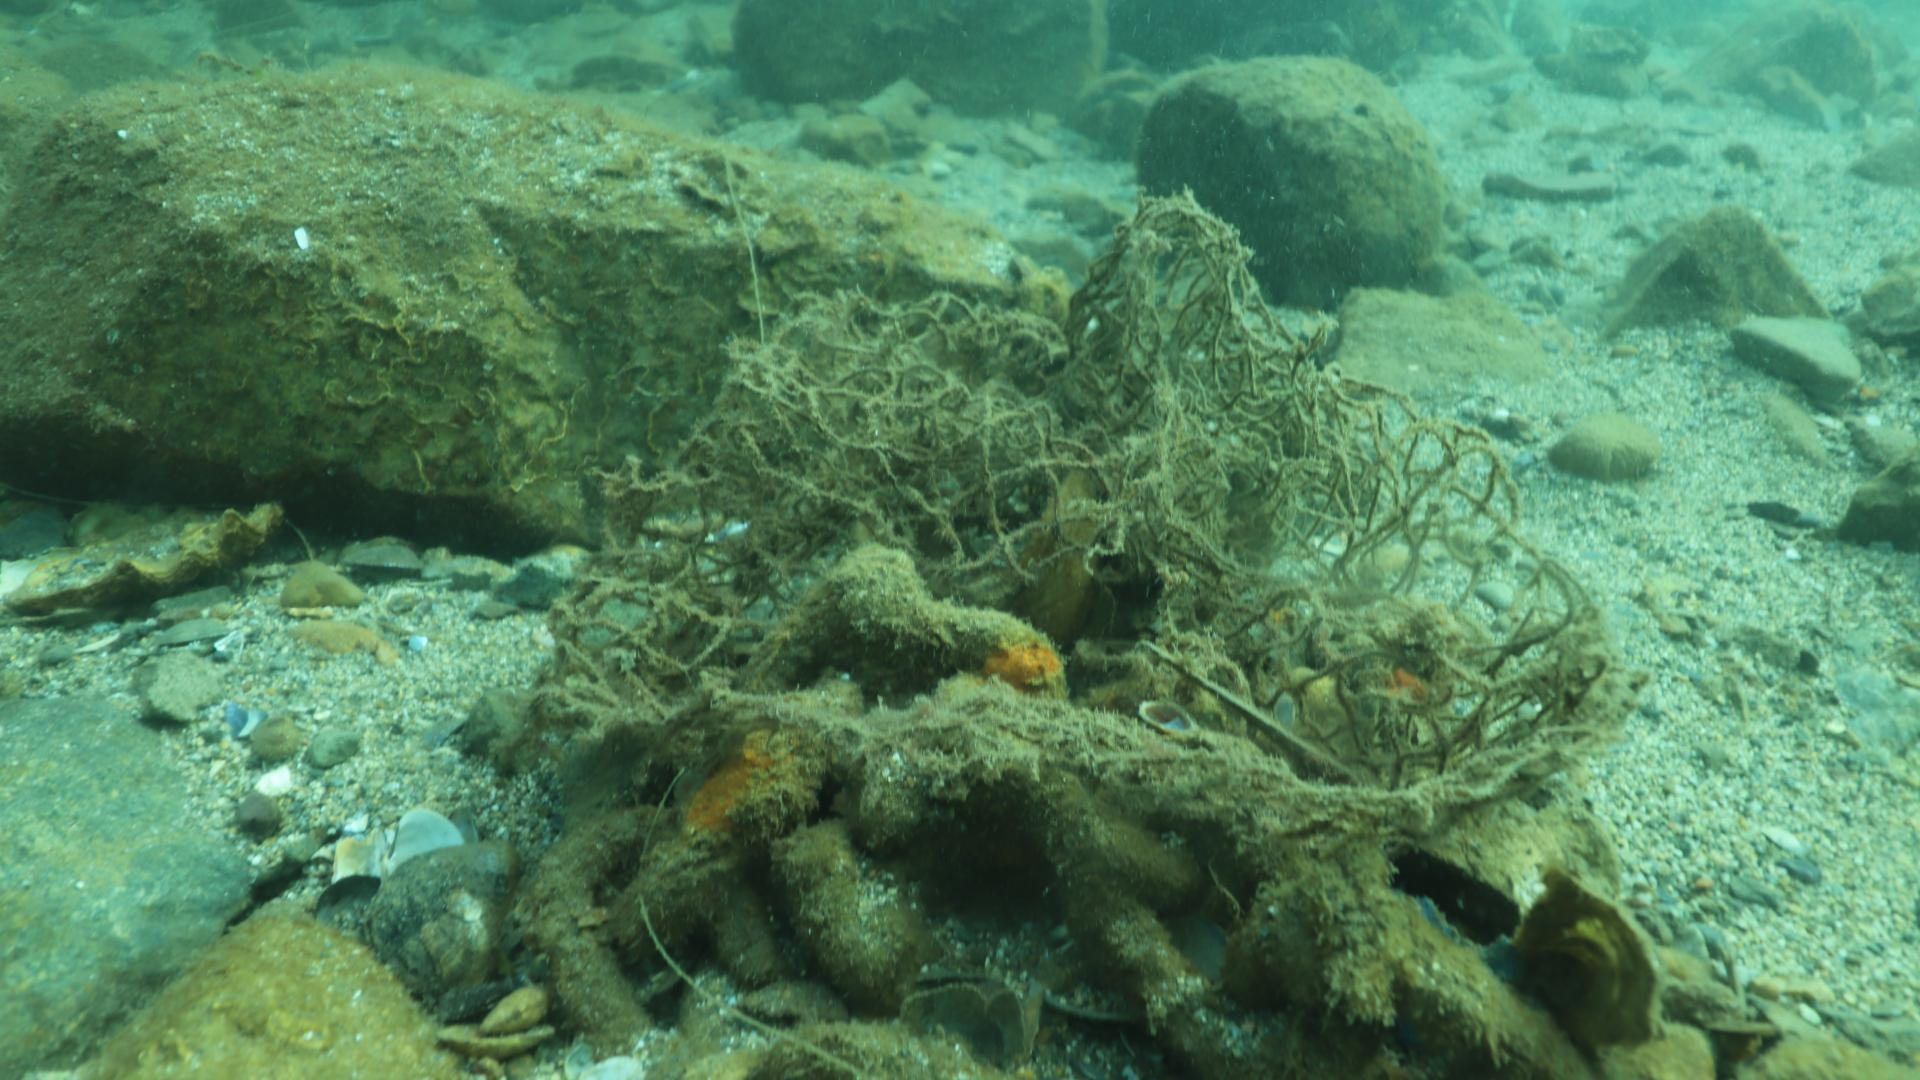fish net: (534, 195, 1654, 696)
